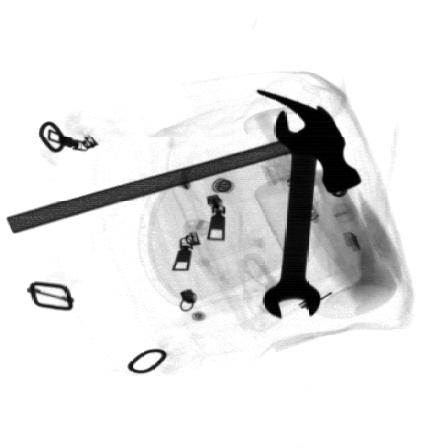Hammer: (7, 89, 363, 235)
Wrench: (263, 106, 338, 318)
